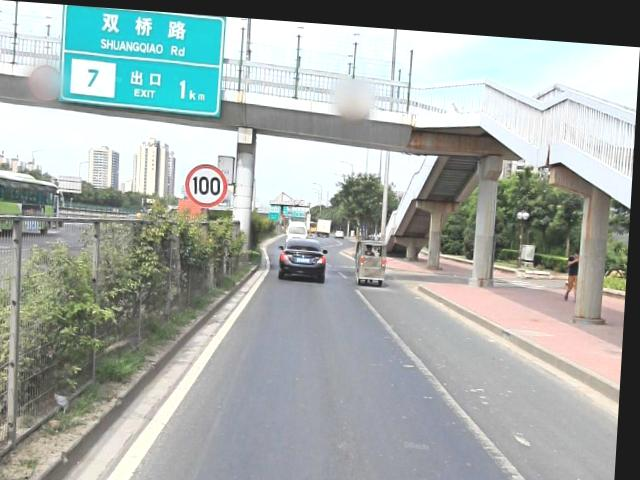limit100: (186, 157, 232, 210)
